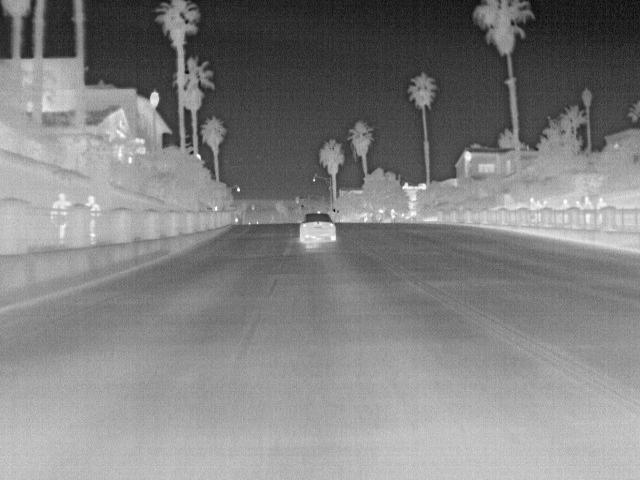car: (300, 211, 340, 244)
person: (80, 193, 102, 210), (52, 192, 72, 210), (580, 194, 595, 210), (596, 195, 609, 209), (560, 198, 573, 211), (571, 198, 583, 210), (528, 196, 538, 209)
